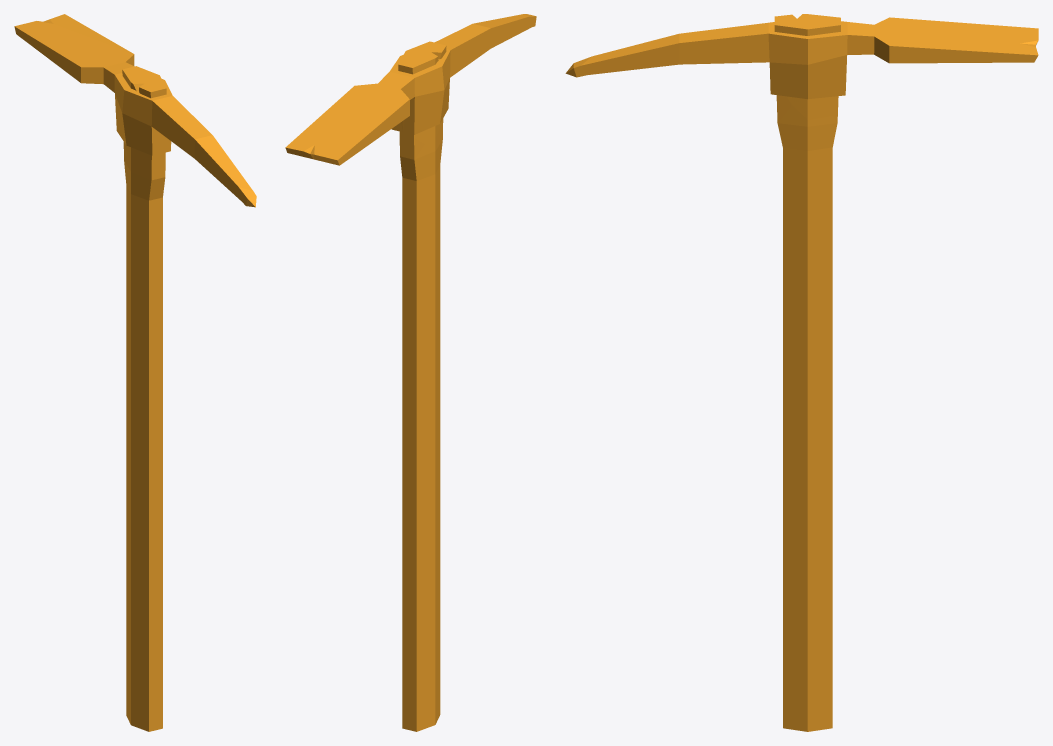
File: SM_Hoe_Pickaxe_Farm.fbx
The picture shows the model from 3 angles, left to right: view 1: azimuth 30°, elevation 25°; view 2: azimuth 150°, elevation 25°; view 3: azimuth 270°, elevation 25°; orthographic projection. The views are drawn at different scales.
Visible parts, largest first — view 1: hoe-pickaxe-farm; view 2: hoe-pickaxe-farm; view 3: hoe-pickaxe-farm.
Part boxes in pixels (left/top/right/bottom): hoe-pickaxe-farm: left=14, top=14, right=256, bottom=731; hoe-pickaxe-farm: left=285, top=14, right=536, bottom=731; hoe-pickaxe-farm: left=565, top=14, right=1038, bottom=731.
Bounding box in the file's own units: 0.081 × 0.9319 × 0.5682.
